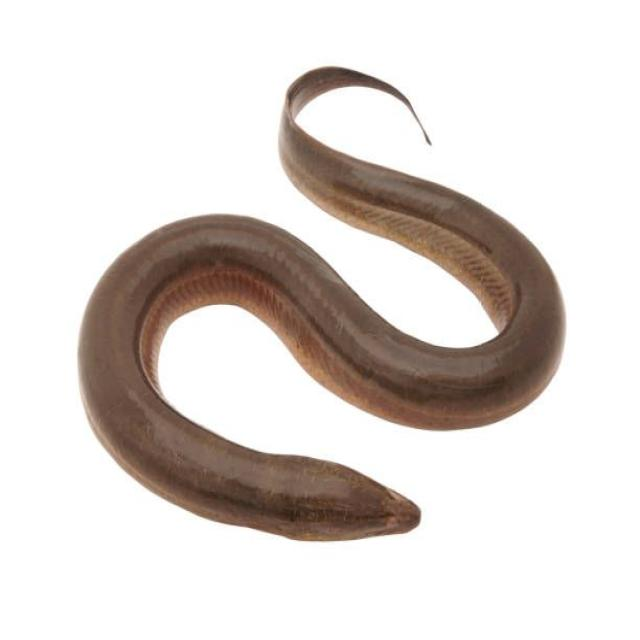Freshwater-Eel: (43, 24, 623, 591)
